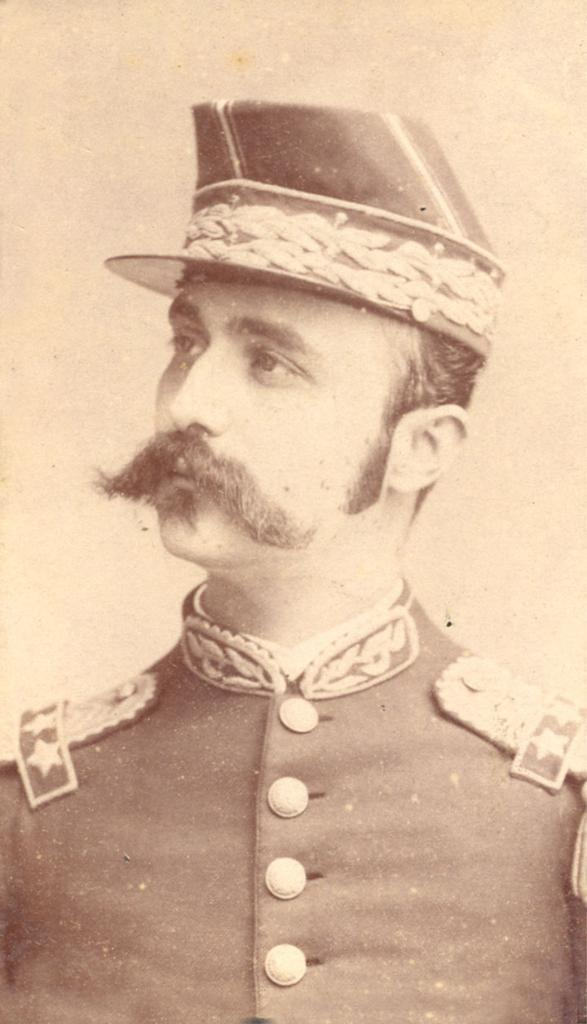Hat: (100, 97, 508, 359)
